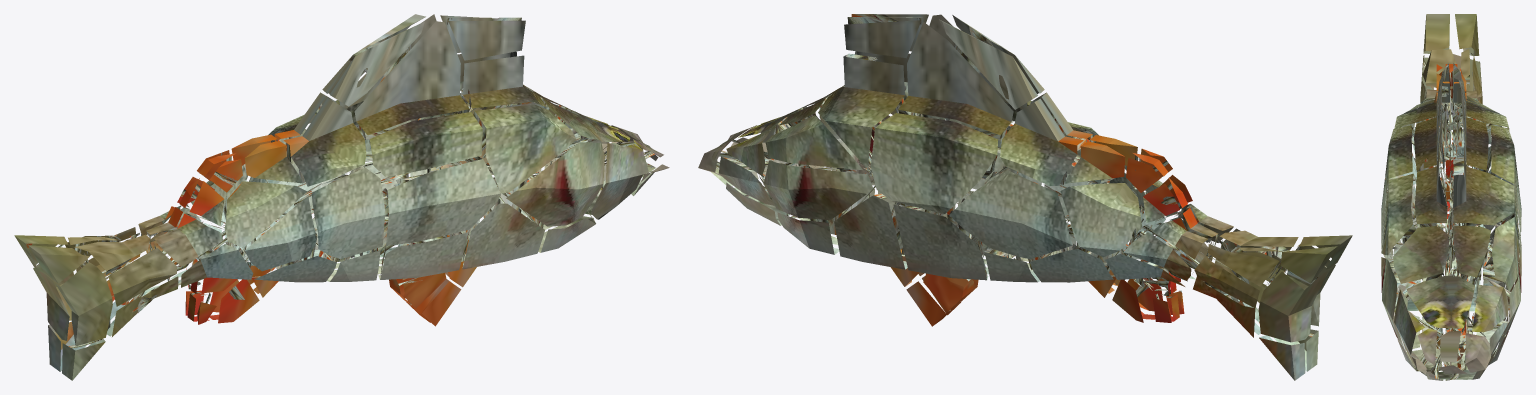
File: ahven_fractured.fbx
The picture shows the model from 3 angles, left to right: view 1: azimuth 30°, elevation 25°; view 2: azimuth 150°, elevation 25°; view 3: azimuth 270°, elevation 25°; orthographic projection. The views are drawn at different scales.
Visible parts, largest first — view 1: Ahven_cell.052, Ahven_cell.021, Ahven_cell.046, Ahven_cell.084, Ahven_cell.045, Ahven_cell.076, Ahven_cell.008, Ahven_cell.012, Ahven_cell.085, Ahven_cell.002, Ahven_cell.081, Ahven_cell.095 (+30 smaller); view 2: Ahven_cell.026, Ahven_cell.070, Ahven_cell.086, Ahven_cell.019, Ahven_cell.007, Ahven_cell.097, Ahven_cell.099, Ahven_cell.051, Ahven_cell.005, Ahven_cell.014, Ahven_cell.033, Ahven_cell.094 (+37 smaller); view 3: Ahven_cell.019, Ahven_cell.053, Ahven_cell.010, Ahven_cell.046, Ahven_cell.002, Ahven_cell.033, Ahven_cell.004, Ahven_cell.052, Ahven_cell.026, Ahven_cell.086, Ahven_cell.029, Ahven_cell.045 (+41 smaller).
Boxes of the visible parts, box(x1,y1,x2,y2) form: Ahven_cell.052: box(354, 21, 469, 166); Ahven_cell.021: box(375, 159, 500, 245); Ahven_cell.046: box(468, 104, 576, 193); Ahven_cell.084: box(294, 167, 385, 259); Ahven_cell.045: box(369, 112, 482, 177); Ahven_cell.076: box(506, 142, 604, 226); Ahven_cell.008: box(283, 98, 366, 186); Ahven_cell.012: box(462, 193, 544, 269); Ahven_cell.085: box(223, 181, 306, 247); Ahven_cell.002: box(459, 55, 546, 163); Ahven_cell.081: box(55, 262, 112, 346); Ahven_cell.095: box(245, 196, 315, 271); Ahven_cell.026: box(870, 113, 998, 213); Ahven_cell.070: box(949, 167, 1072, 258); Ahven_cell.086: box(898, 22, 1013, 178); Ahven_cell.019: box(818, 53, 911, 170); Ahven_cell.007: box(893, 204, 988, 280); Ahven_cell.097: box(763, 161, 873, 220); Ahven_cell.099: box(1060, 183, 1143, 257); Ahven_cell.051: box(1000, 98, 1083, 188); Ahven_cell.005: box(834, 185, 907, 269); Ahven_cell.014: box(1258, 266, 1328, 342); Ahven_cell.033: box(765, 115, 863, 170); Ahven_cell.094: box(939, 19, 1037, 109); Ahven_cell.019: box(1453, 143, 1517, 245); Ahven_cell.053: box(1407, 276, 1474, 332); Ahven_cell.010: box(1393, 226, 1449, 283); Ahven_cell.046: box(1381, 173, 1416, 255); Ahven_cell.002: box(1414, 140, 1449, 244); Ahven_cell.033: box(1483, 217, 1519, 291); Ahven_cell.004: box(1453, 226, 1490, 281); Ahven_cell.052: box(1414, 81, 1449, 182); Ahven_cell.026: box(1475, 125, 1521, 237); Ahven_cell.086: box(1453, 86, 1488, 176); Ahven_cell.029: box(1472, 285, 1508, 332); Ahven_cell.045: box(1385, 125, 1416, 200).
Bounding box in the file's own units: 38.7 × 18.02 × 7.76.
